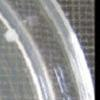white: (3, 28, 19, 46)
